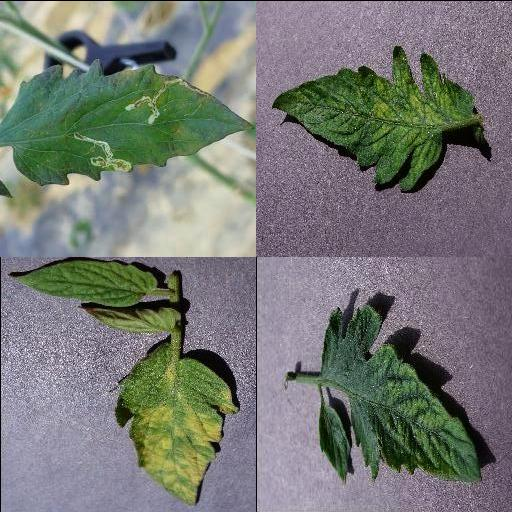Healthy: (6, 256, 155, 305)
Leaf Miner: (0, 56, 255, 185)
Leaf Mold: (106, 340, 239, 508)
Mosaic Virus: (270, 43, 478, 193), (316, 301, 484, 485)
